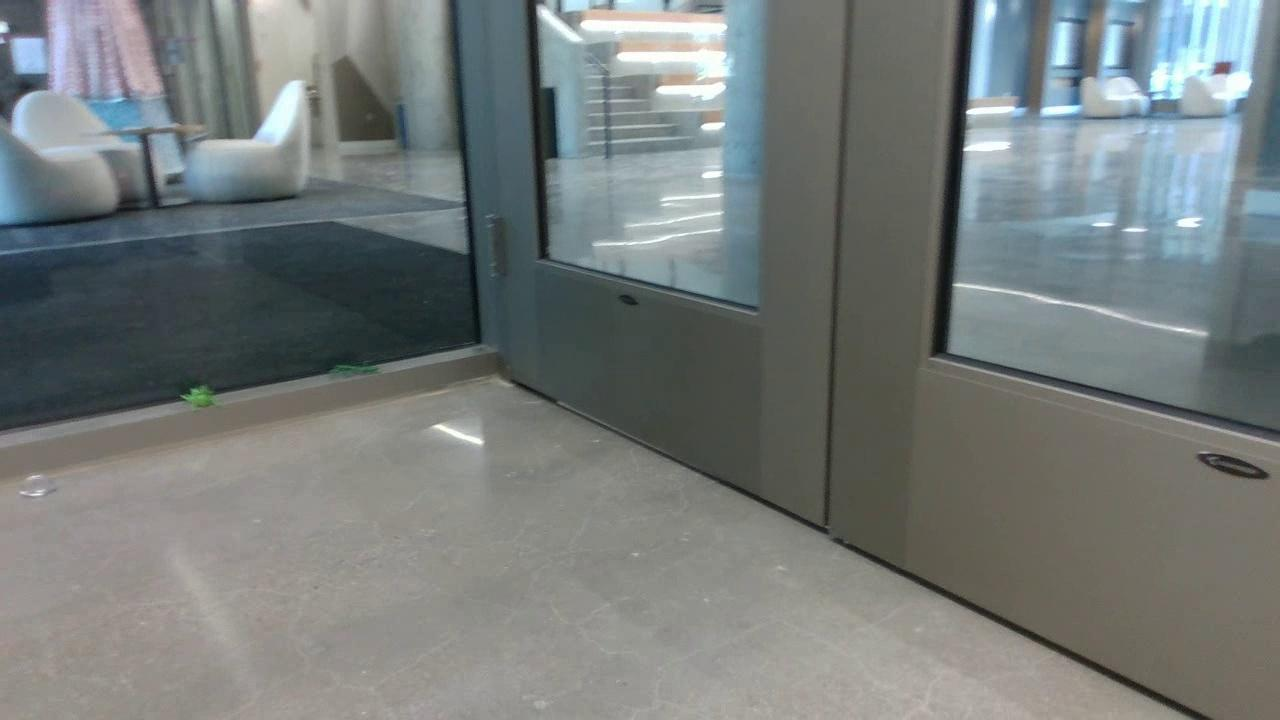grasshopper: (181, 388, 220, 410)
